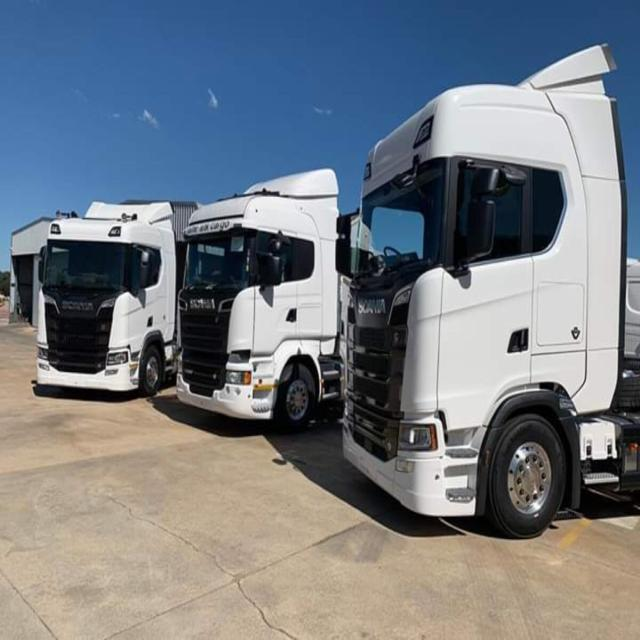Heavy Duty Truck: (337, 39, 640, 541), (174, 168, 344, 420), (33, 206, 174, 403)
